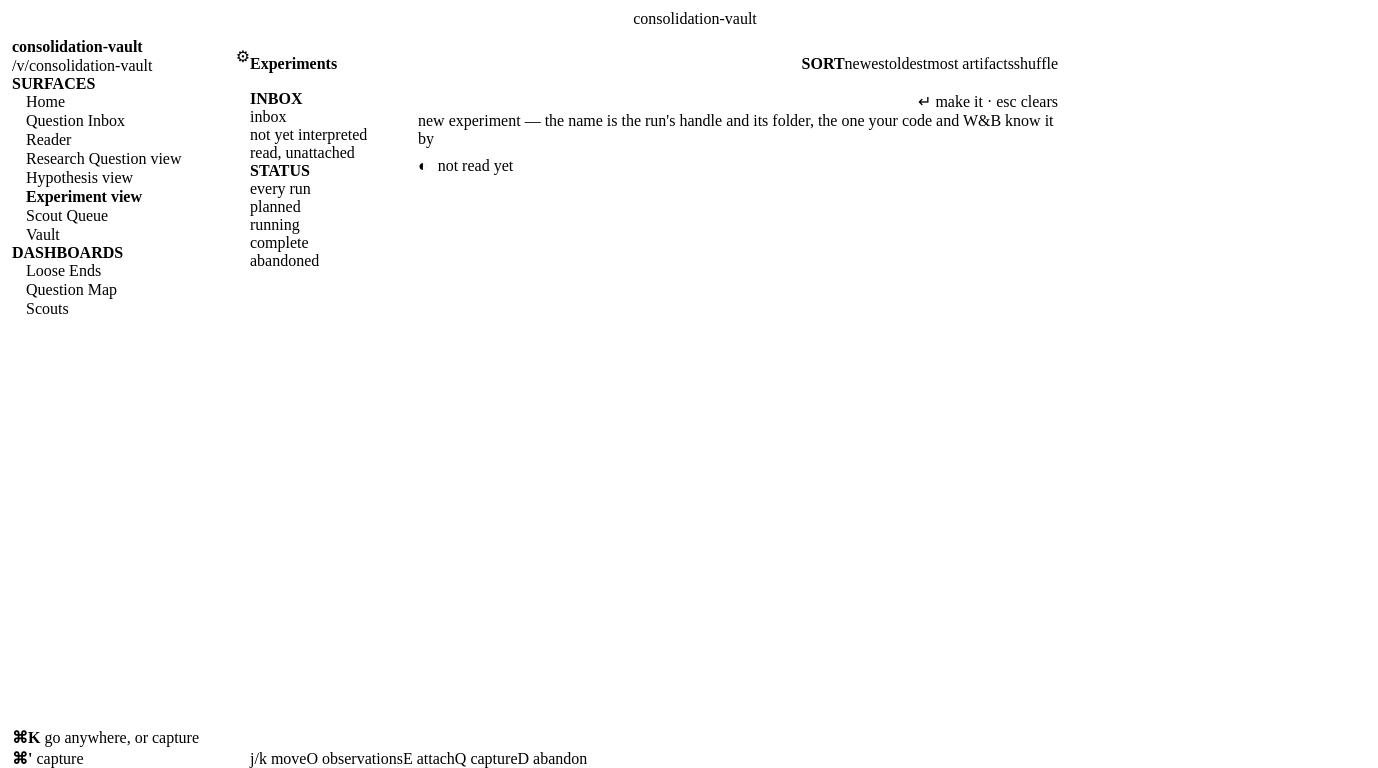
Test: making an Experiment on its surface › shows a refused name's reason on the line and keeps the typing
The width and height of the screenshot is (1378, 768).
Type "sweep-7" into the field named "Name" at (668, 101), box [418,90,918,112]
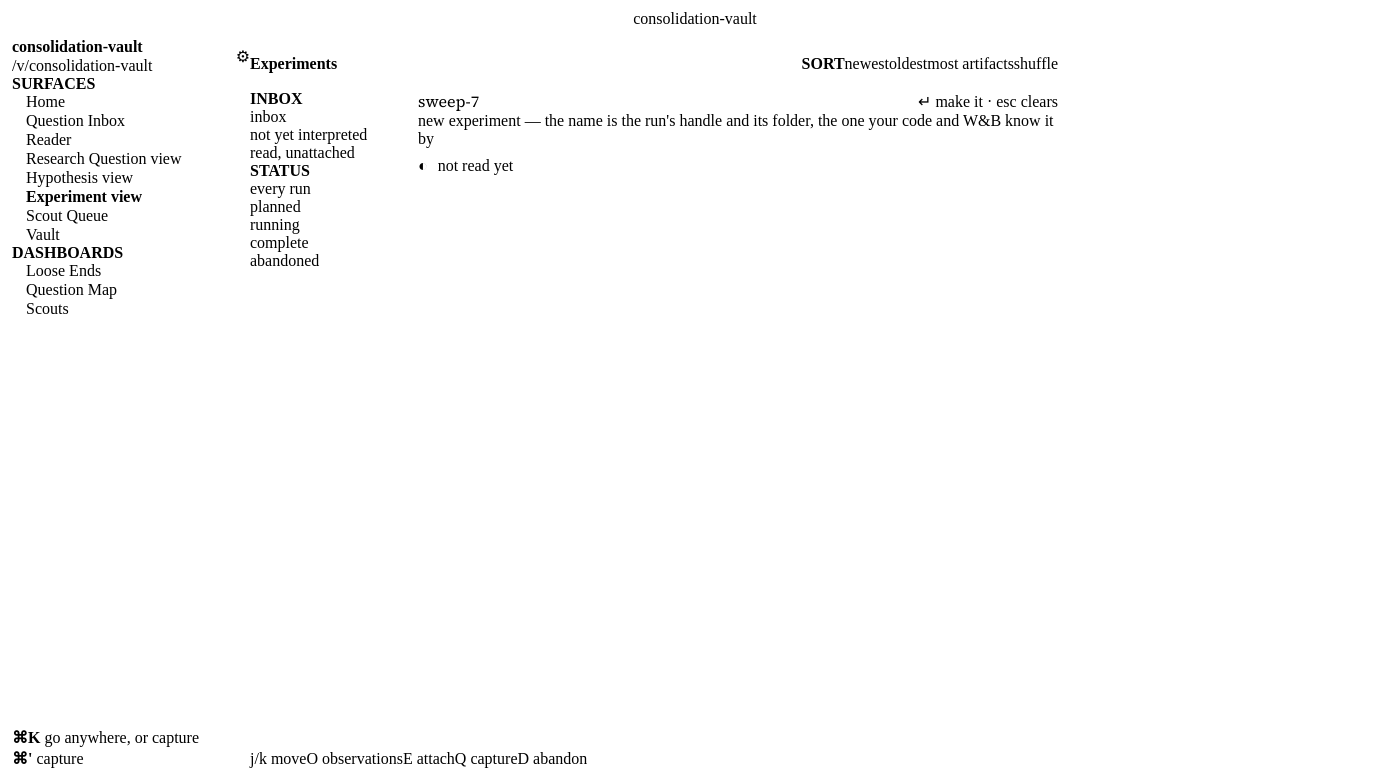
Press Enter in the field named "Name", box [418,90,918,112]
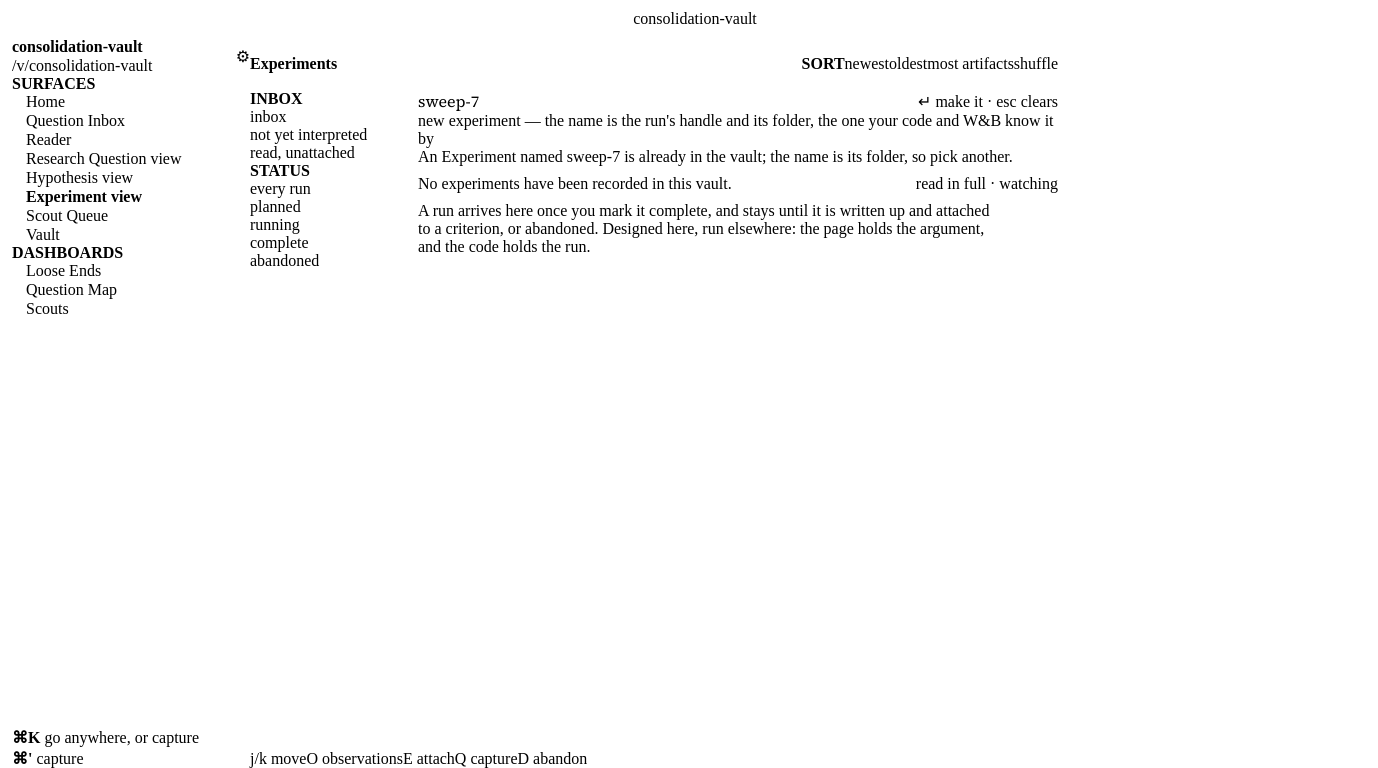
Check: the message shows "already in the vault", box [418,148,1013,165]
